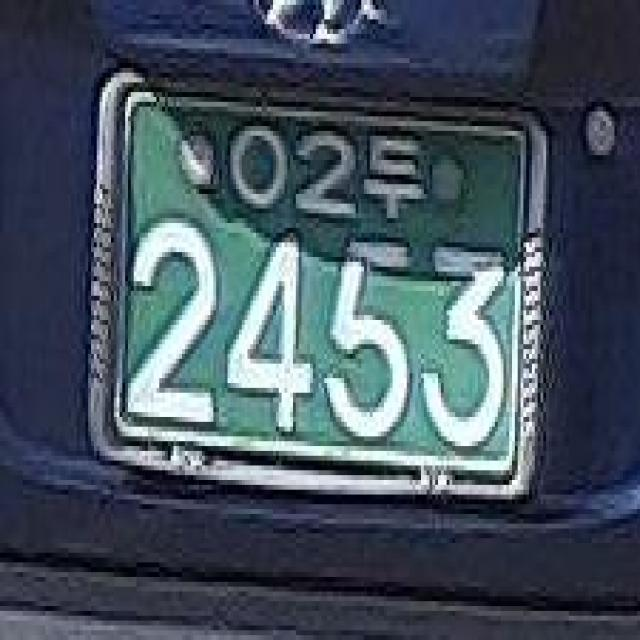illegal_plate: (84, 64, 548, 524)
